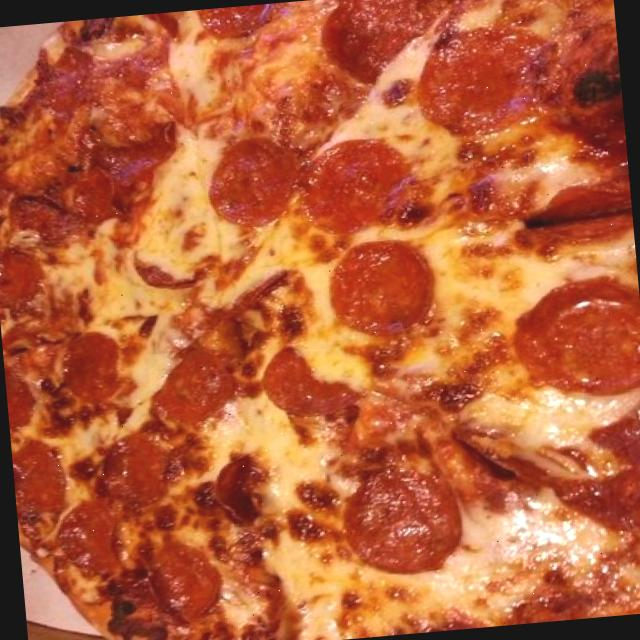pepperoni: (409, 25, 556, 143), (506, 273, 640, 400), (340, 464, 461, 577), (296, 135, 412, 241), (326, 236, 438, 342), (201, 133, 300, 229), (258, 344, 364, 422), (146, 346, 242, 431), (523, 185, 634, 250), (145, 543, 229, 624), (74, 120, 180, 184), (54, 329, 122, 410), (57, 496, 121, 576), (103, 431, 170, 504), (9, 437, 66, 518), (194, 2, 284, 44), (208, 455, 260, 527), (0, 247, 43, 306), (4, 372, 38, 429)
pizza: (0, 0, 640, 640)
